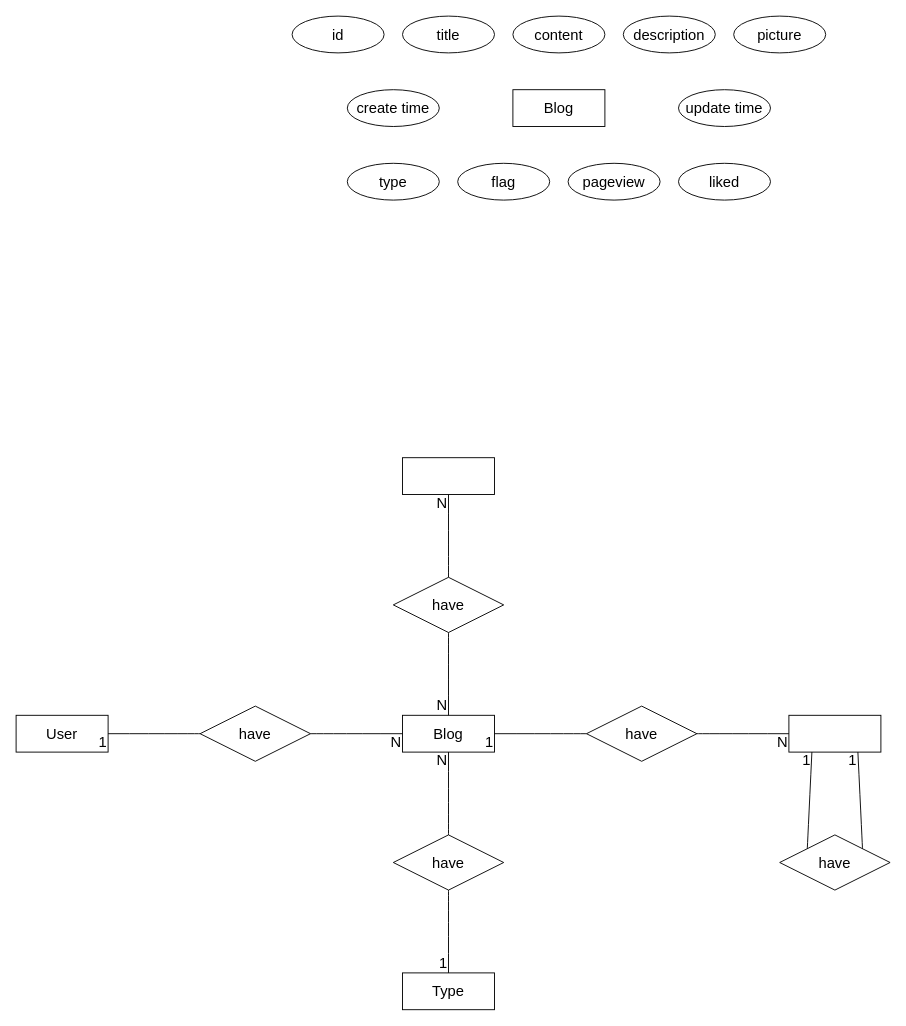
Some shapes in this 906 by 1026 pixel diagram are drawn without their labels. The shapes that lost their labels are listed below. From the top down, each one's centre as x and y in pixels, then its label:
point (448, 475): Tag
point (834, 733): Comment
